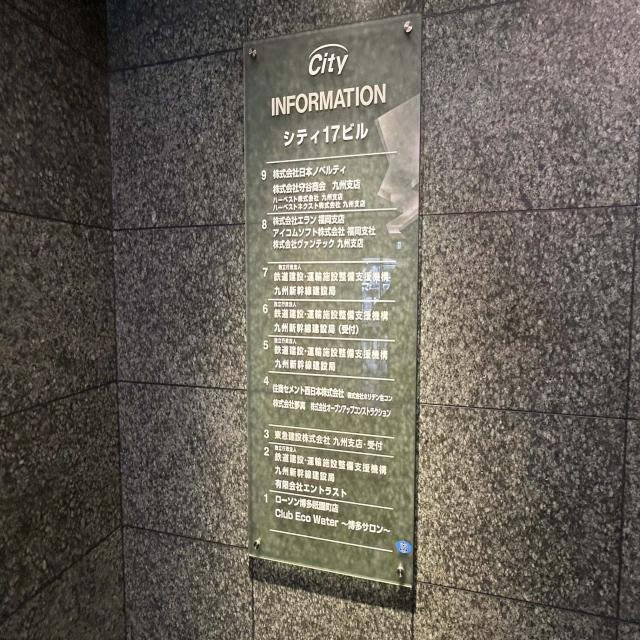building: (279, 118, 372, 150)
facility: (272, 505, 394, 540), (271, 445, 394, 479), (269, 396, 396, 423), (272, 380, 398, 405), (273, 338, 394, 363), (273, 429, 391, 454), (271, 301, 393, 323), (271, 264, 394, 283), (271, 477, 350, 500), (272, 462, 343, 487), (272, 177, 365, 195), (274, 493, 343, 516), (272, 162, 350, 182), (270, 225, 377, 238), (269, 237, 367, 251), (272, 321, 360, 336), (272, 357, 341, 374), (271, 199, 368, 211), (271, 213, 348, 227), (271, 191, 346, 205), (272, 284, 340, 297)
floor: (258, 165, 269, 184), (258, 217, 271, 233), (259, 264, 271, 280), (260, 338, 272, 353), (262, 492, 272, 506), (261, 301, 270, 316), (262, 428, 272, 441), (262, 446, 272, 458), (262, 374, 270, 388)
